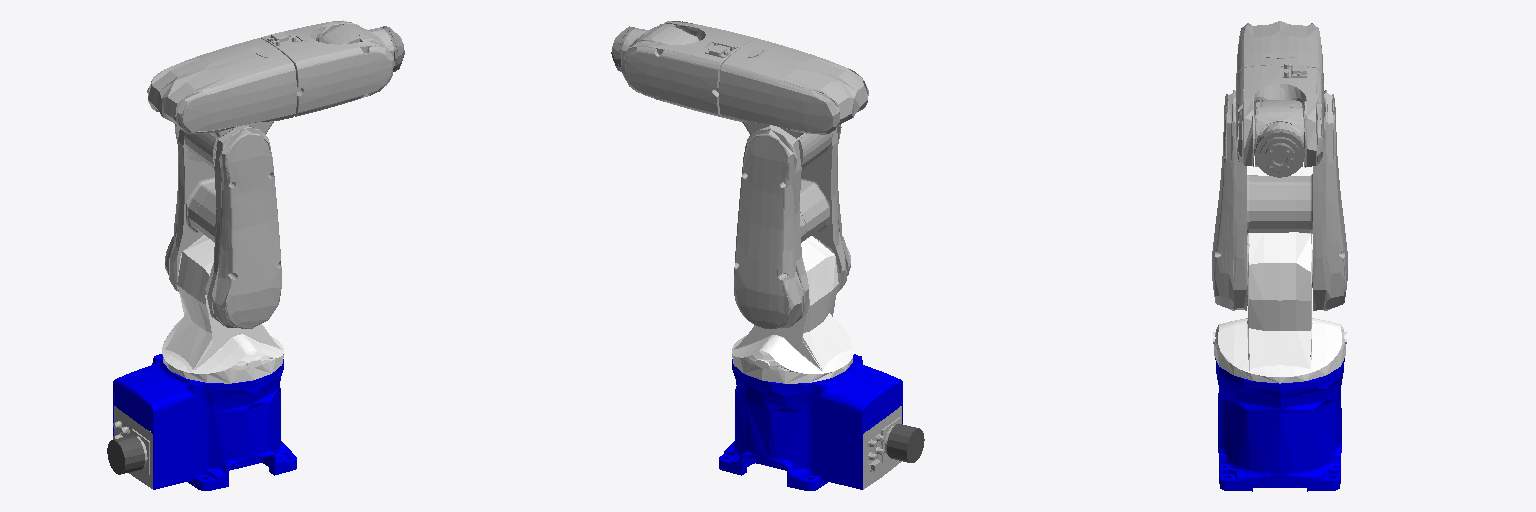
The robot description file, URDF, robot "vp6242":
<?xml version="1.0" encoding="UTF-8"?>
<robot name="vp6242">
	<gazebo>
		<plugin name="gazebo_ros_control" filename="libgazebo_ros_control.so">
			<robotNamespace>/vp6242</robotNamespace>
		</plugin>
	</gazebo>
	<link name="world"/>
	<joint name="joint_w" type="fixed">
		<parent link="world"/>
		<child link="base_link"/>
	</joint>
	<link name="base_link">
		<visual>
			<origin rpy="0 0 0" xyz="0 0 0"/>
			<geometry>
				<mesh filename="package://denso_robot_descriptions/vp6242_description/base_link.dae" scale="1 1 1"/>
			</geometry>
		</visual>
		<collision>
			<origin rpy="0 0 0" xyz="0 0 0"/>
			<geometry>
				<mesh filename="package://denso_robot_descriptions/vp6242_description/base_link.dae" scale="1 1 1"/>
			</geometry>
		</collision>
		<inertial>
			<mass value="1"/>
			<origin rpy="0.000000 0.000000 0.000000" xyz="0.000000 0.000000 0.000000"/>
			<inertia ixx="1" ixy="0" ixz="0" iyy="1" iyz="0" izz="1"/>
		</inertial>
	</link>
	<link name="J1">
		<visual>
			<origin rpy="0 0 0" xyz="0 0 0"/>
			<geometry>
				<mesh filename="package://denso_robot_descriptions/vp6242_description/J1.dae" scale="1 1 1"/>
			</geometry>
		</visual>
		<collision>
			<origin rpy="0 0 0" xyz="0 0 0"/>
			<geometry>
				<mesh filename="package://denso_robot_descriptions/vp6242_description/J1.dae" scale="1 1 1"/>
			</geometry>
		</collision>
		<inertial>
			<mass value="1"/>
			<origin rpy="0.000000 0.000000 0.000000" xyz="0.000000 0.000000 0.000000"/>
			<inertia ixx="1" ixy="0" ixz="0" iyy="1" iyz="0" izz="1"/>
		</inertial>
	</link>
	<joint name="joint_1" type="revolute">
		<parent link="base_link"/>
		<child link="J1"/>
		<origin rpy="0.000000 0.000000 0.000000" xyz="0.000000 0.000000 0.000000"/>
		<axis xyz="-0.000000 -0.000000 1.000000"/>
		<limit effort="1" lower="-2.79252680319093" upper="2.79252680319093" velocity="1"/>
		<dynamics damping="0" friction="0"/>
	</joint>
	<transmission name="trans_1">
		<type>transmission_interface/SimpleTransmission</type>
		<joint name="joint_1">
			<hardwareInterface>hardware_interface/PositionJointInterface</hardwareInterface>
		</joint>
		<actuator name="motor_1">
			<hardwareInterface>hardware_interface/PositionJointInterface</hardwareInterface>
			<mechanicalReduction>1</mechanicalReduction>
		</actuator>
	</transmission>
	<link name="J2">
		<visual>
			<origin rpy="0 0 0" xyz="0 0 0"/>
			<geometry>
				<mesh filename="package://denso_robot_descriptions/vp6242_description/J2.dae" scale="1 1 1"/>
			</geometry>
		</visual>
		<collision>
			<origin rpy="0 0 0" xyz="0 0 0"/>
			<geometry>
				<mesh filename="package://denso_robot_descriptions/vp6242_description/J2.dae" scale="1 1 1"/>
			</geometry>
		</collision>
		<inertial>
			<mass value="1"/>
			<origin rpy="0.000000 0.000000 0.000000" xyz="0.000000 0.000000 0.000000"/>
			<inertia ixx="1" ixy="0" ixz="0" iyy="1" iyz="0" izz="1"/>
		</inertial>
	</link>
	<joint name="joint_2" type="revolute">
		<parent link="J1"/>
		<child link="J2"/>
		<origin rpy="0.000000 0.000000 0.000000" xyz="0.000000 0.000000 0.280000"/>
		<axis xyz="-0.000000 1.000000 -0.000000"/>
		<limit effort="1" lower="-2.0943951023932" upper="2.0943951023932" velocity="1"/>
		<dynamics damping="0" friction="0"/>
	</joint>
	<transmission name="trans_2">
		<type>transmission_interface/SimpleTransmission</type>
		<joint name="joint_2">
			<hardwareInterface>hardware_interface/PositionJointInterface</hardwareInterface>
		</joint>
		<actuator name="motor_2">
			<hardwareInterface>hardware_interface/PositionJointInterface</hardwareInterface>
			<mechanicalReduction>1</mechanicalReduction>
		</actuator>
	</transmission>
	<link name="J3">
		<visual>
			<origin rpy="0 0 0" xyz="0 0 0"/>
			<geometry>
				<mesh filename="package://denso_robot_descriptions/vp6242_description/J3.dae" scale="1 1 1"/>
			</geometry>
		</visual>
		<collision>
			<origin rpy="0 0 0" xyz="0 0 0"/>
			<geometry>
				<mesh filename="package://denso_robot_descriptions/vp6242_description/J3.dae" scale="1 1 1"/>
			</geometry>
		</collision>
		<inertial>
			<mass value="1"/>
			<origin rpy="0.000000 0.000000 0.000000" xyz="0.000000 0.000000 0.000000"/>
			<inertia ixx="1" ixy="0" ixz="0" iyy="1" iyz="0" izz="1"/>
		</inertial>
	</link>
	<joint name="joint_3" type="revolute">
		<parent link="J2"/>
		<child link="J3"/>
		<origin rpy="0.000000 0.000000 0.000000" xyz="0.000000 0.000000 0.210000"/>
		<axis xyz="-0.000000 1.000000 -0.000000"/>
		<limit effort="1" lower="0.331612557878923" upper="2.79252680319093" velocity="1"/>
		<dynamics damping="0" friction="0"/>
	</joint>
	<transmission name="trans_3">
		<type>transmission_interface/SimpleTransmission</type>
		<joint name="joint_3">
			<hardwareInterface>hardware_interface/PositionJointInterface</hardwareInterface>
		</joint>
		<actuator name="motor_3">
			<hardwareInterface>hardware_interface/PositionJointInterface</hardwareInterface>
			<mechanicalReduction>1</mechanicalReduction>
		</actuator>
	</transmission>
	<link name="J4">
		<visual>
			<origin rpy="0 0 0" xyz="0 0 0"/>
			<geometry>
				<mesh filename="package://denso_robot_descriptions/vp6242_description/J4.dae" scale="1 1 1"/>
			</geometry>
		</visual>
		<collision>
			<origin rpy="0 0 0" xyz="0 0 0"/>
			<geometry>
				<mesh filename="package://denso_robot_descriptions/vp6242_description/J4.dae" scale="1 1 1"/>
			</geometry>
		</collision>
		<inertial>
			<mass value="1"/>
			<origin rpy="0.000000 0.000000 0.000000" xyz="0.000000 0.000000 0.000000"/>
			<inertia ixx="1" ixy="0" ixz="0" iyy="1" iyz="0" izz="1"/>
		</inertial>
	</link>
	<joint name="joint_4" type="revolute">
		<parent link="J3"/>
		<child link="J4"/>
		<origin rpy="0.000000 0.000000 0.000000" xyz="-0.075000 0.000000 -0.490000"/>
		<axis xyz="-0.000000 -0.000000 1.000000"/>
		<limit effort="1" lower="-2.79252680319093" upper="2.79252680319093" velocity="1"/>
		<dynamics damping="0" friction="0"/>
	</joint>
	<transmission name="trans_4">
		<type>transmission_interface/SimpleTransmission</type>
		<joint name="joint_4">
			<hardwareInterface>hardware_interface/PositionJointInterface</hardwareInterface>
		</joint>
		<actuator name="motor_4">
			<hardwareInterface>hardware_interface/PositionJointInterface</hardwareInterface>
			<mechanicalReduction>1</mechanicalReduction>
		</actuator>
	</transmission>
	<link name="J5">
		<visual>
			<origin rpy="0 0 0" xyz="0 0 0"/>
			<geometry>
				<mesh filename="package://denso_robot_descriptions/vp6242_description/J5.dae" scale="1 1 1"/>
			</geometry>
		</visual>
		<collision>
			<origin rpy="0 0 0" xyz="0 0 0"/>
			<geometry>
				<mesh filename="package://denso_robot_descriptions/vp6242_description/J5.dae" scale="1 1 1"/>
			</geometry>
		</collision>
		<inertial>
			<mass value="1"/>
			<origin rpy="0.000000 0.000000 0.000000" xyz="0.000000 0.000000 0.000000"/>
			<inertia ixx="1" ixy="0" ixz="0" iyy="1" iyz="0" izz="1"/>
		</inertial>
	</link>
	<joint name="joint_5" type="revolute">
		<parent link="J4"/>
		<child link="J5"/>
		<origin rpy="0.000000 0.000000 0.000000" xyz="0.000000 0.000000 0.700000"/>
		<axis xyz="-0.000000 1.000000 -0.000000"/>
		<limit effort="1" lower="-2.0943951023932" upper="2.0943951023932" velocity="1"/>
		<dynamics damping="0" friction="0"/>
	</joint>
	<transmission name="trans_5">
		<type>transmission_interface/SimpleTransmission</type>
		<joint name="joint_5">
			<hardwareInterface>hardware_interface/PositionJointInterface</hardwareInterface>
		</joint>
		<actuator name="motor_5">
			<hardwareInterface>hardware_interface/PositionJointInterface</hardwareInterface>
			<mechanicalReduction>1</mechanicalReduction>
		</actuator>
	</transmission>
	<link name="J6">
		<visual>
			<origin rpy="0 0 0" xyz="0 0 0"/>
			<geometry>
				<mesh filename="package://denso_robot_descriptions/vp6242_description/J6.dae" scale="1 1 1"/>
			</geometry>
		</visual>
		<collision>
			<origin rpy="0 0 0" xyz="0 0 0"/>
			<geometry>
				<mesh filename="package://denso_robot_descriptions/vp6242_description/J6.dae" scale="1 1 1"/>
			</geometry>
		</collision>
		<inertial>
			<mass value="1"/>
			<origin rpy="0.000000 0.000000 0.000000" xyz="0.000000 0.000000 0.000000"/>
			<inertia ixx="1" ixy="0" ixz="0" iyy="1" iyz="0" izz="1"/>
		</inertial>
	</link>
	<joint name="joint_6" type="revolute">
		<parent link="J5"/>
		<child link="J6"/>
		<origin rpy="0.000000 0.000000 0.000000" xyz="0.000000 0.000000 0.070000"/>
		<axis xyz="-0.000000 -0.000000 1.000000"/>
		<limit effort="1" lower="-6.28318530717959" upper="6.28318530717959" velocity="1"/>
		<dynamics damping="0" friction="0"/>
	</joint>
	<transmission name="trans_6">
		<type>transmission_interface/SimpleTransmission</type>
		<joint name="joint_6">
			<hardwareInterface>hardware_interface/PositionJointInterface</hardwareInterface>
		</joint>
		<actuator name="motor_6">
			<hardwareInterface>hardware_interface/PositionJointInterface</hardwareInterface>
			<mechanicalReduction>1</mechanicalReduction>
		</actuator>
	</transmission>
</robot>

--- Facts derived from the render (not from the file) ---
3 views of the same robot in one strip: view 1: azimuth 30°, elevation 25°; view 2: azimuth 150°, elevation 25°; view 3: azimuth 270°, elevation 25° (orthographic).
Robot: vp6242 — 8 links, 7 joints (6 revolute, 1 fixed); root link world; default pose: all joints at 0 but 1 set to mid-range because 0 is outside their limits (joint_3 = 1.56).
Links seen in each view (by area): view 1: base_link, J2, J3, J1, J4, J5; view 2: base_link, J2, J3, J1, J4, J5; view 3: J2, base_link, J1, J4, J3, J5, J6.
Boxes of the visible links, x1,y1,x2,y2 form: base_link: (107, 354, 296, 490); J2: (165, 124, 281, 328); J3: (147, 38, 296, 168); J1: (162, 235, 283, 383); J4: (261, 20, 394, 116); J5: (318, 24, 402, 71); base_link: (719, 354, 924, 490); J2: (734, 125, 850, 328); J3: (719, 38, 868, 168); J1: (732, 236, 853, 383); J4: (621, 21, 755, 116); J5: (613, 24, 699, 71); J2: (1212, 90, 1347, 310); base_link: (1215, 358, 1344, 491); J1: (1213, 232, 1346, 383); J4: (1236, 63, 1323, 167); J3: (1236, 21, 1323, 85); J5: (1254, 100, 1304, 177); J6: (1265, 143, 1294, 172).
Bounding box of the posed robot: 0.4636 × 0.1759 × 0.6164 m (x, y, z).
Meshes: 7 distinct files referenced, 7 mesh visuals loaded (7 Collada DAE).
